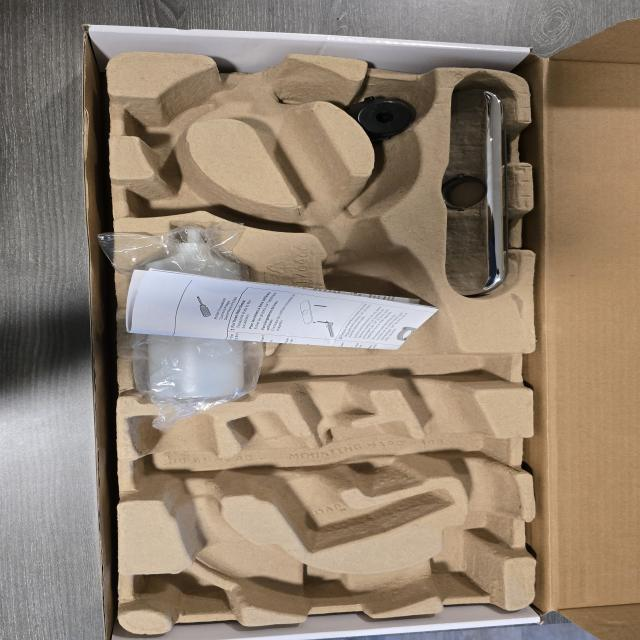1m: (128, 56, 518, 616)
2m: (230, 411, 452, 551)
3o: (143, 224, 248, 401)
4: (441, 87, 507, 295)
5: (348, 95, 420, 137)
6m: (123, 82, 222, 153)
7m: (124, 160, 263, 223)
8: (127, 268, 439, 350)
